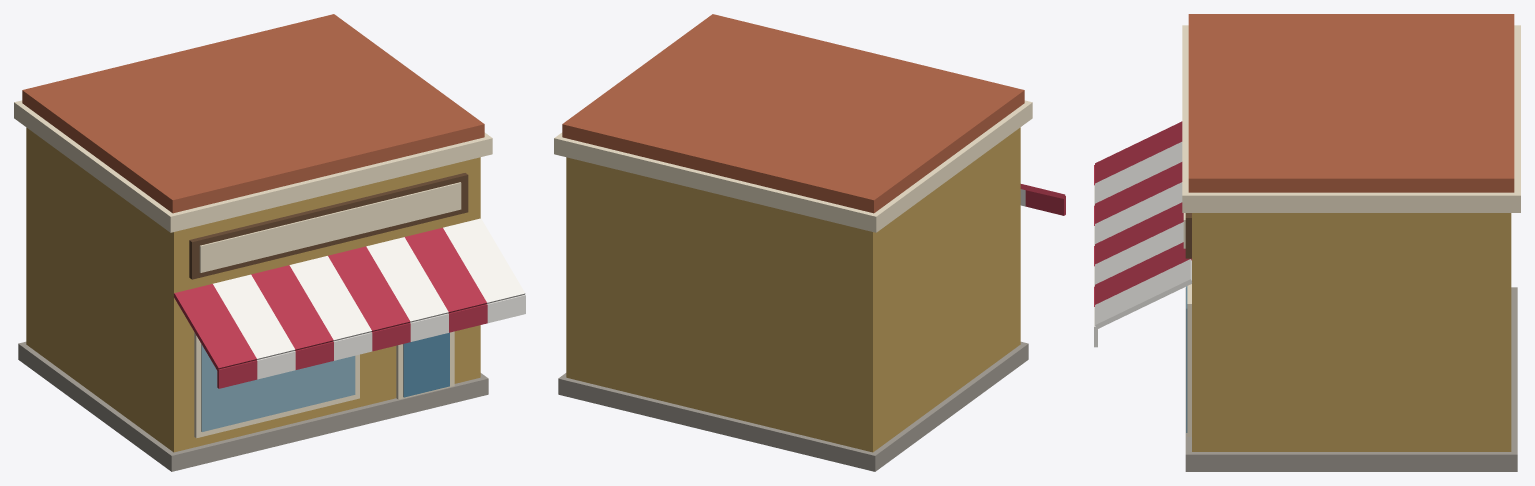
Rendered from shop_awning.glb.
3 renders of one model, left to right at view 1: azimuth 30°, elevation 25°; view 2: azimuth 150°, elevation 25°; view 3: azimuth 270°, elevation 25°, orthographic. The views are drawn at different scales.
Parts seen in each view (by area): view 1: shop_awning; view 2: shop_awning; view 3: shop_awning.
Part boxes in pixels (box(x1,y1,x2,y2)): shop_awning: box(14, 14, 525, 471); shop_awning: box(554, 14, 1065, 471); shop_awning: box(1094, 14, 1520, 471).
Size of the model in its own units: 6.3 by 5.05 by 6.68.
